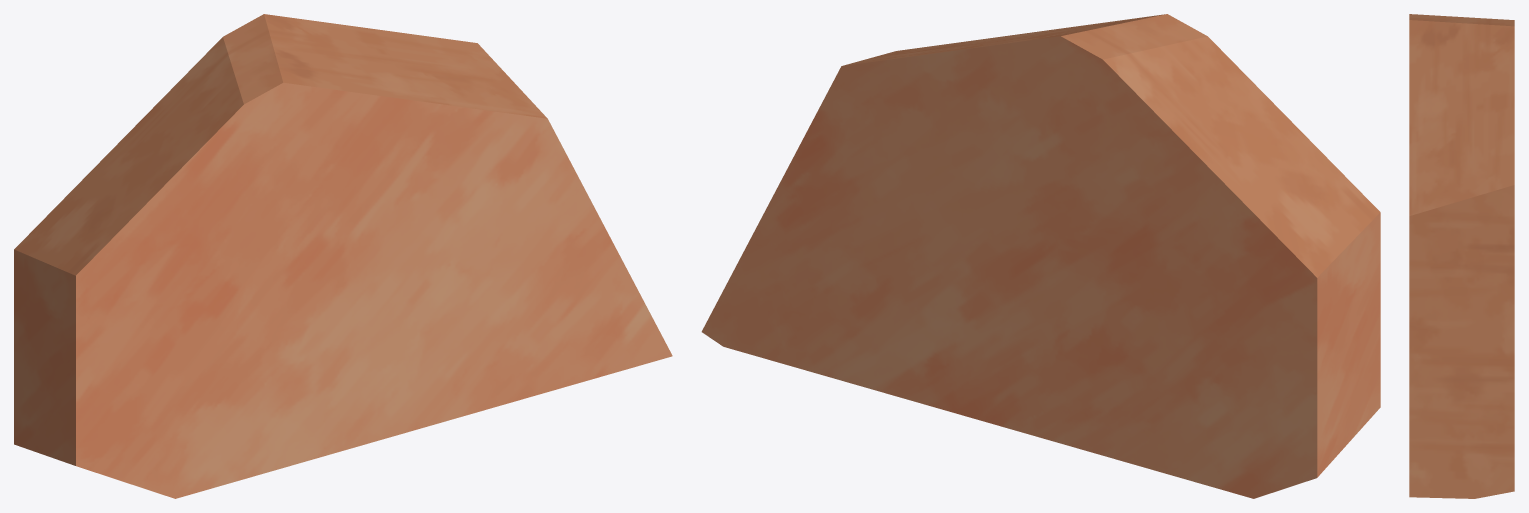
File: wall2_plain_s01.fbx
3 views of the same model, side by side, from view 1: azimuth 30°, elevation 25°; view 2: azimuth 150°, elevation 25°; view 3: azimuth 270°, elevation 25° (orthographic). The views are drawn at different scales.
Parts seen in each view (by area): view 1: wall2_plain_s01; view 2: wall2_plain_s01; view 3: wall2_plain_s01.
Part boxes in pixels (x1=…): wall2_plain_s01: x1=14, y1=14, x2=672, y2=498; wall2_plain_s01: x1=701, y1=14, x2=1380, y2=498; wall2_plain_s01: x1=1409, y1=14, x2=1514, y2=498.
Size of the model in its own units: 5.62 by 3.62 by 1.
